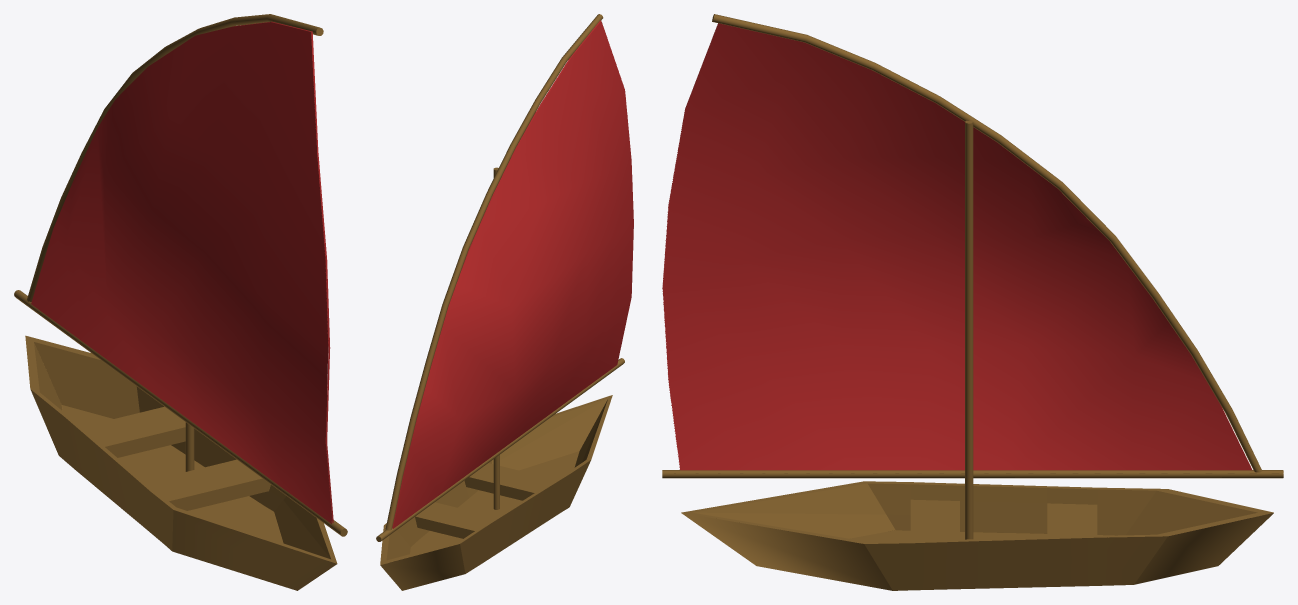
The model's file is Model Textured Enemy_Scout.fbx.
3 views of the same model, side by side, from view 1: azimuth 30°, elevation 25°; view 2: azimuth 150°, elevation 25°; view 3: azimuth 270°, elevation 25° (orthographic). The views are drawn at different scales.
Visible parts, largest first — view 1: Scout 003, Scout Unit; view 2: Scout 003, Scout Unit; view 3: Scout 003, Scout Unit.
Part boxes in pixels (box(x1,y1,x2,y2)): Scout 003: box(31, 21, 333, 523); Scout Unit: box(14, 14, 347, 590); Scout 003: box(392, 20, 633, 528); Scout Unit: box(376, 14, 624, 590); Scout 003: box(662, 23, 1252, 470); Scout Unit: box(662, 14, 1283, 590).
Size of the model in its own units: 28.29 by 116 by 118.
2 materials, 2 textured.
